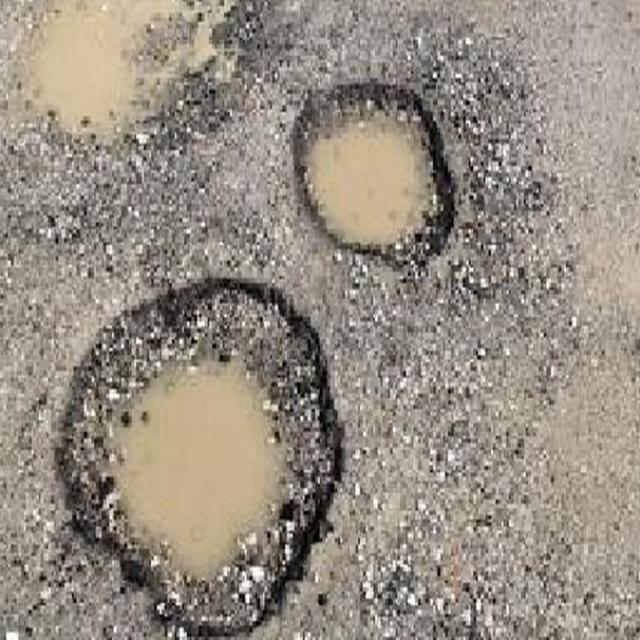Lubang: (67, 278, 340, 635), (294, 81, 453, 279)
